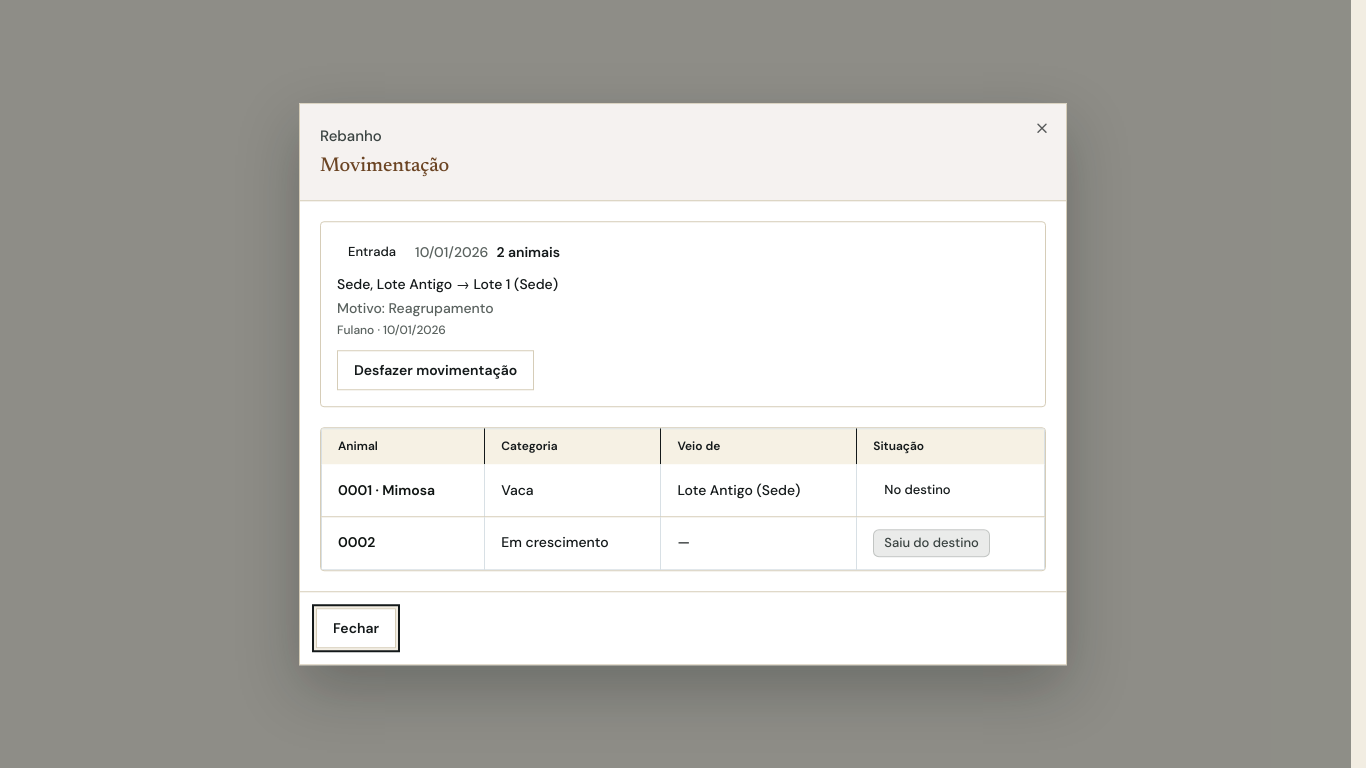
Test: DetalheMovimentacao › desfazer com erro 409 mostra a mensagem do servidor
Expected: the heading "Movimentação" is shown, [320,153,449,181]
Click the button "Desfazer movimentação" at (436, 370), box [337,350,534,390]
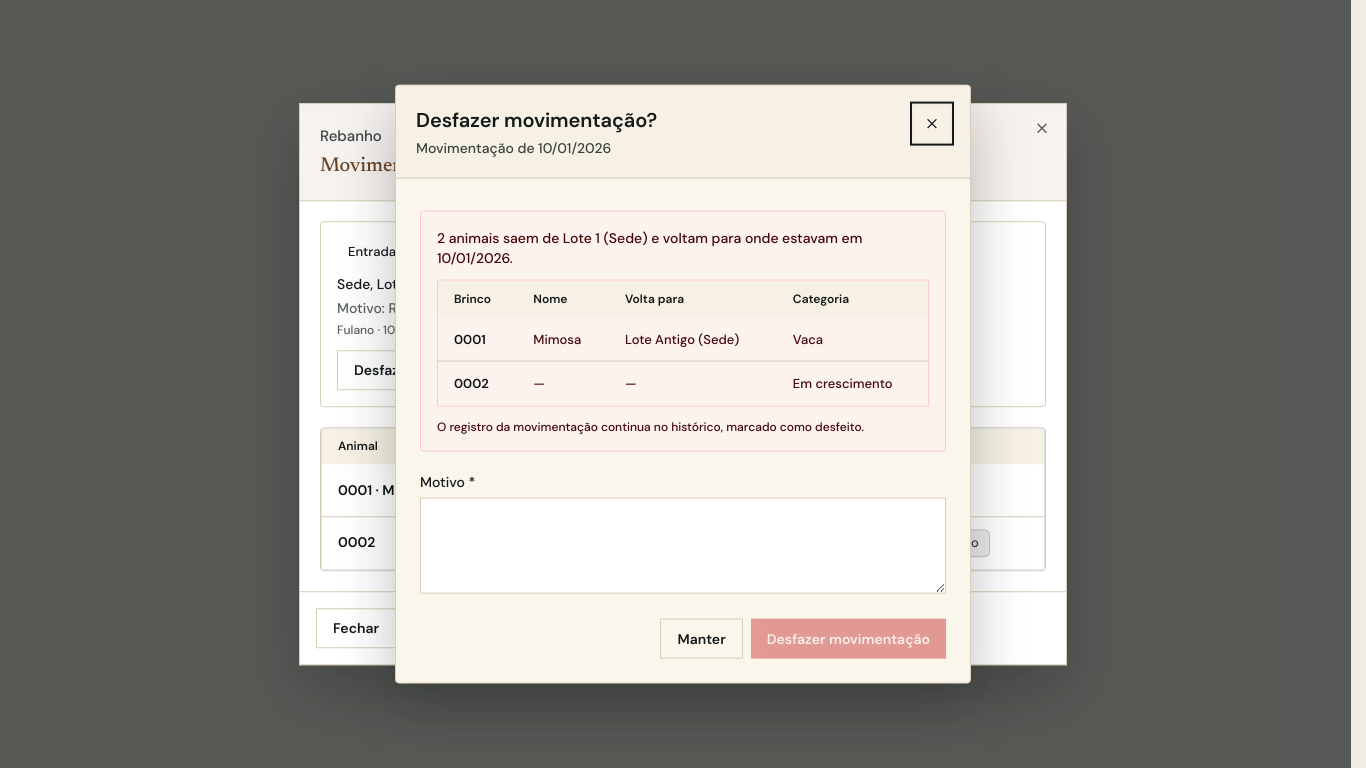
Type "Motivo do estorno" into the text box labelled "Motivo" at (683, 545), box [420,497,946,593]
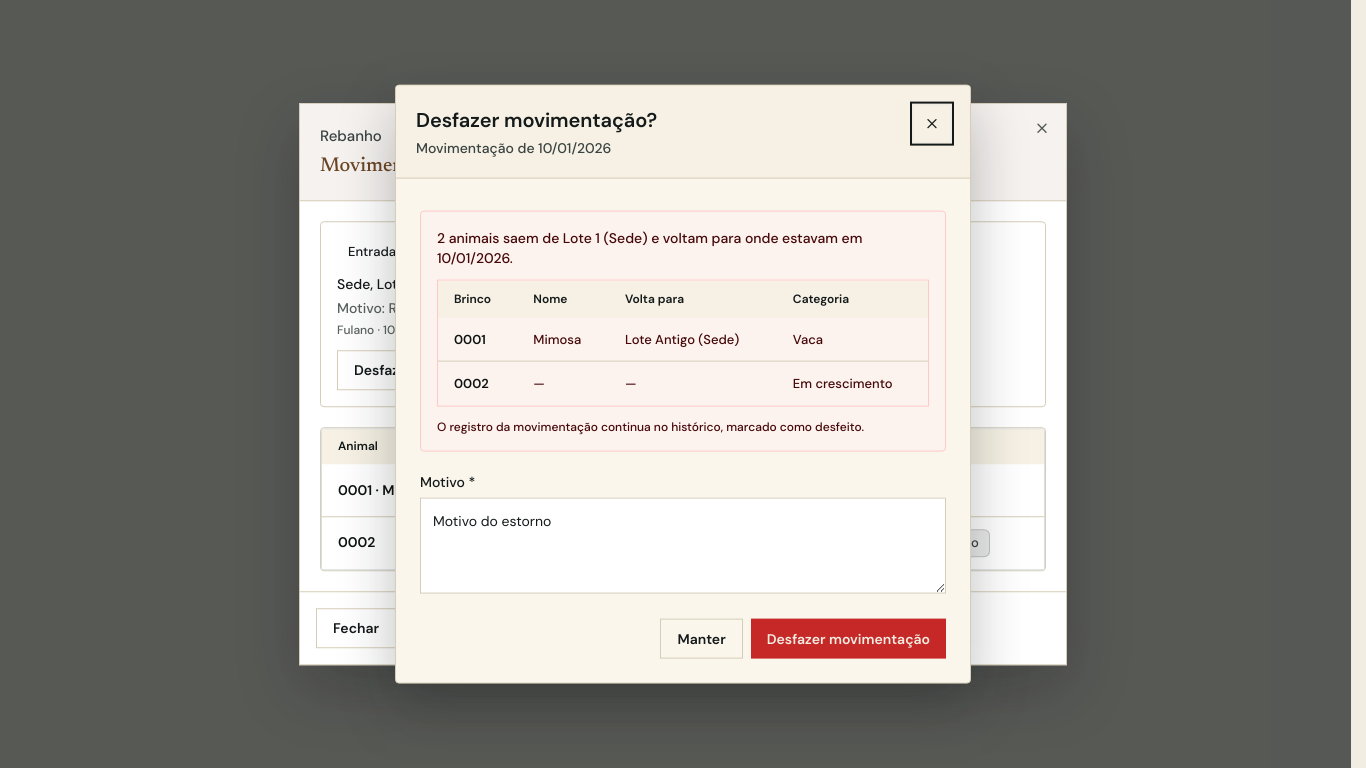
Click the button "Desfazer movimentação" at (848, 638), box [751,618,946,658]
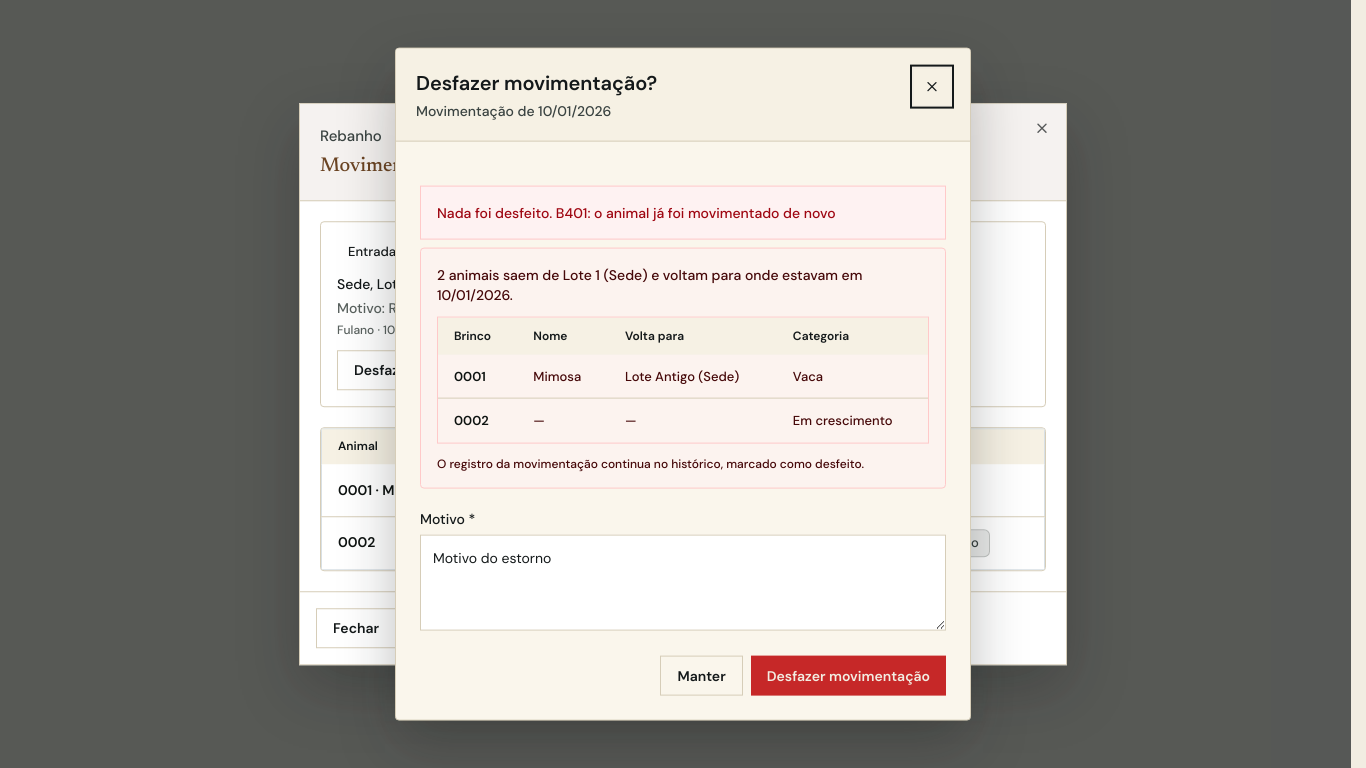
Expected: the dialog "Desfazer movimentação?" is shown, [395,48,971,720]
Expected: the text "Nada foi desfeito. B401: o animal já foi movimentado de novo" is shown, [420,186,946,240]
